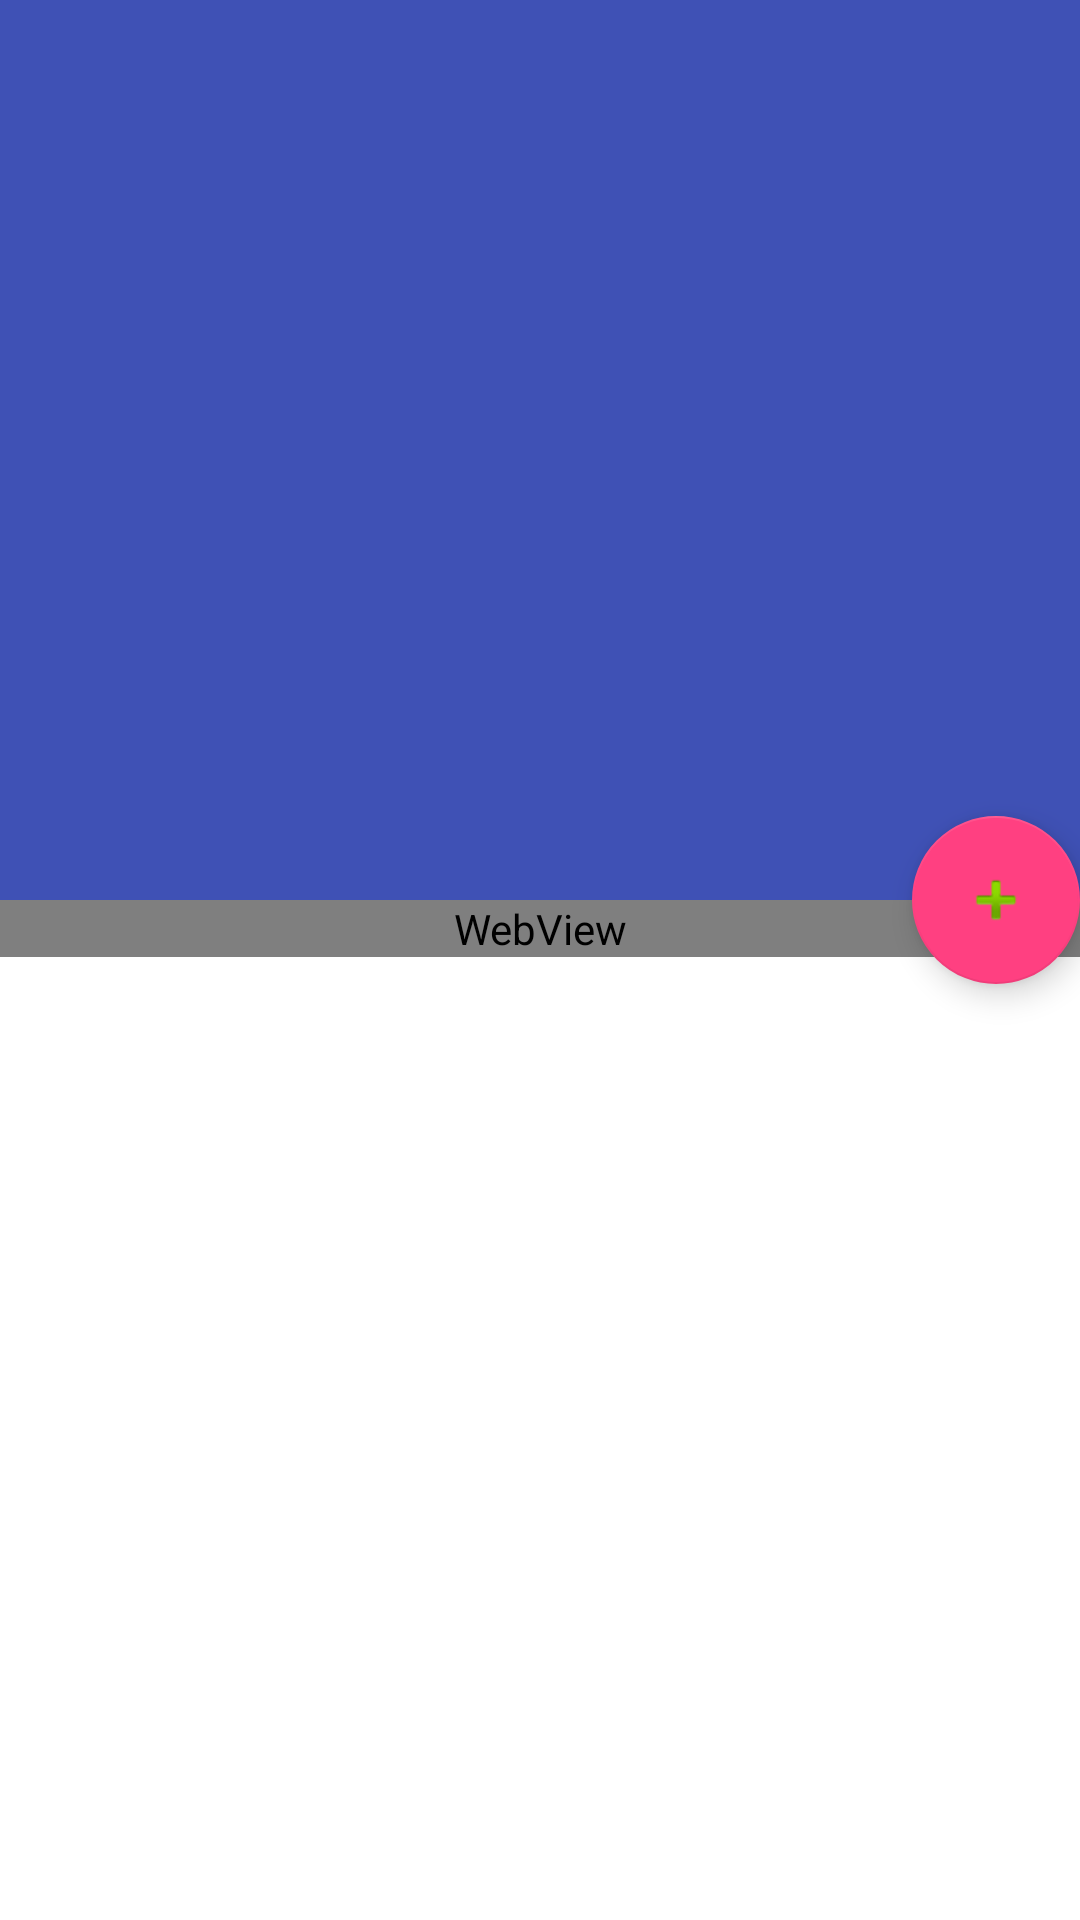

Icons on this 1080 x 1920 Android screen, each with the point to tap as (x,y):
add: (996,900)
